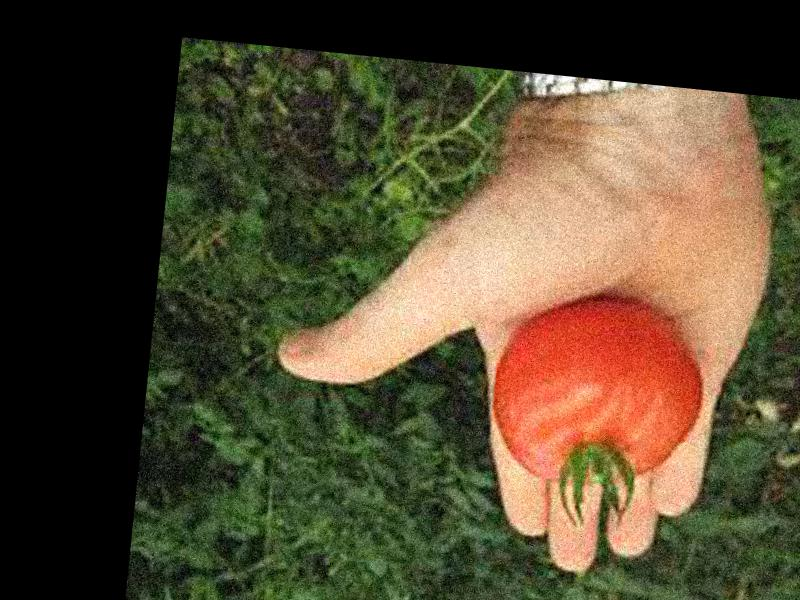Tomato: (483, 289, 713, 492)
